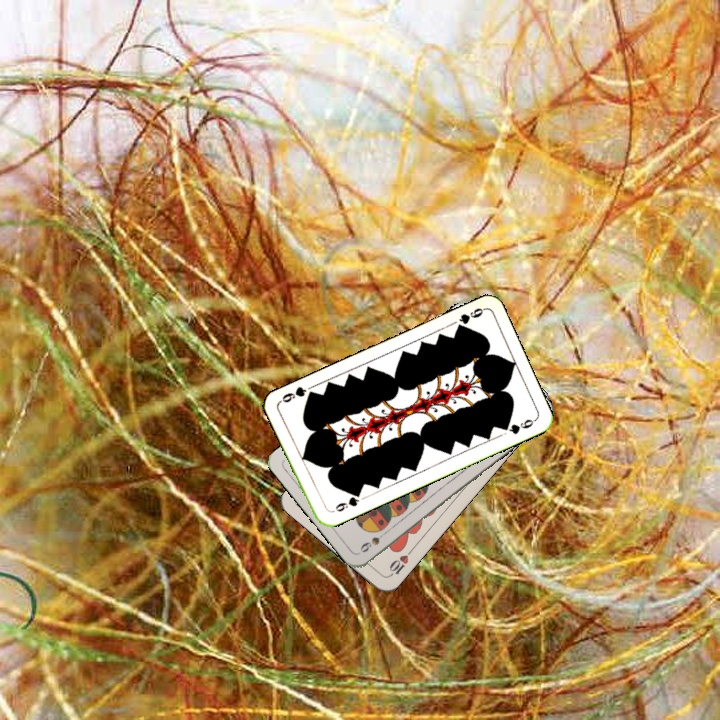G9: (452, 304, 487, 333), (331, 488, 363, 515)
H10: (385, 545, 415, 579)
S9: (356, 526, 391, 555)
